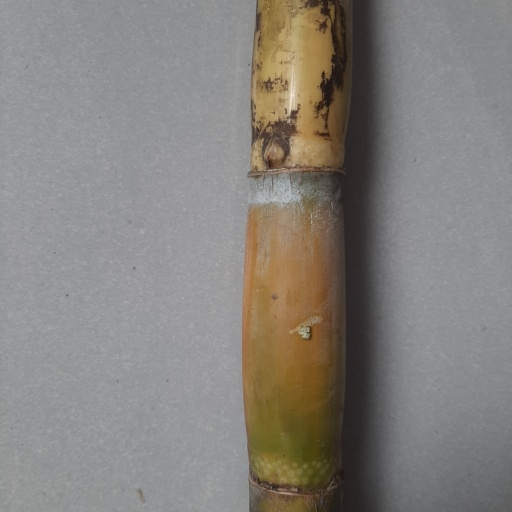Bud: (262, 135, 287, 170)
